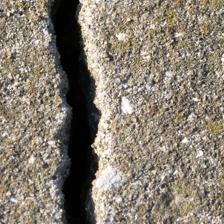Crack: (20, 2, 92, 219)
